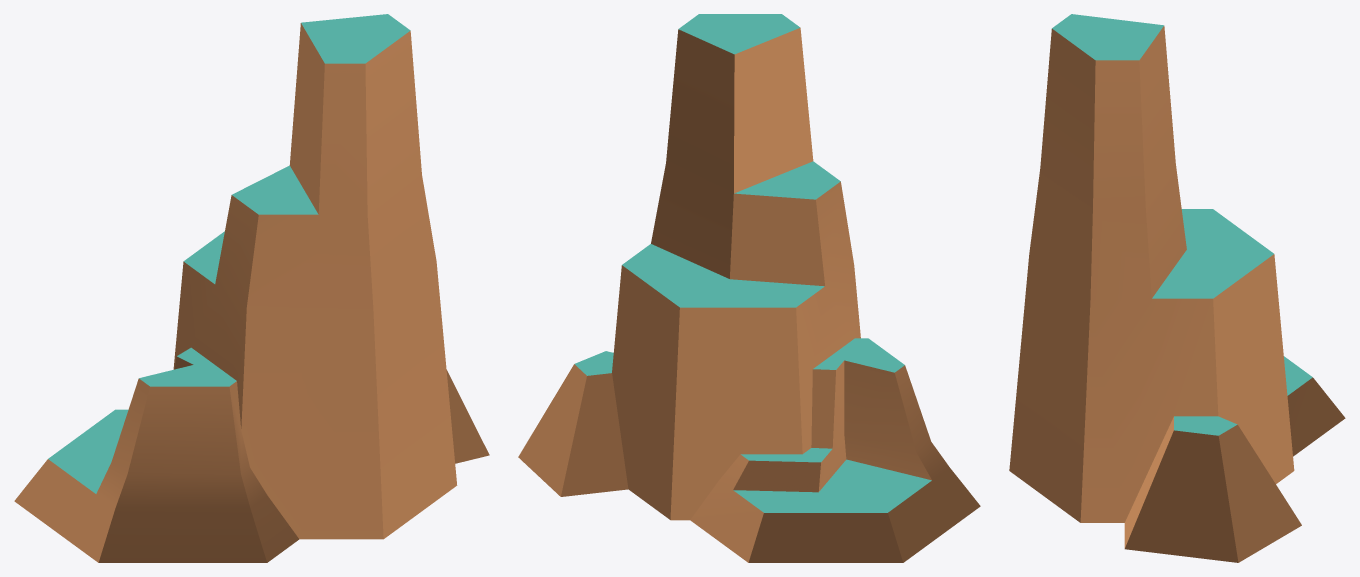
File: rock_tall1.obj
3 renders of one model, left to right at view 1: azimuth 30°, elevation 25°; view 2: azimuth 150°, elevation 25°; view 3: azimuth 270°, elevation 25°, orthographic. The views are drawn at different scales.
Visible parts, largest first — view 1: rock_tall1; view 2: rock_tall1; view 3: rock_tall1.
Boxes of the visible parts, bbox=[...] form: rock_tall1: bbox=[14, 14, 489, 562]; rock_tall1: bbox=[518, 14, 980, 562]; rock_tall1: bbox=[1009, 14, 1345, 562].
Size of the model in its own units: 9.83 by 9.96 by 6.83.
